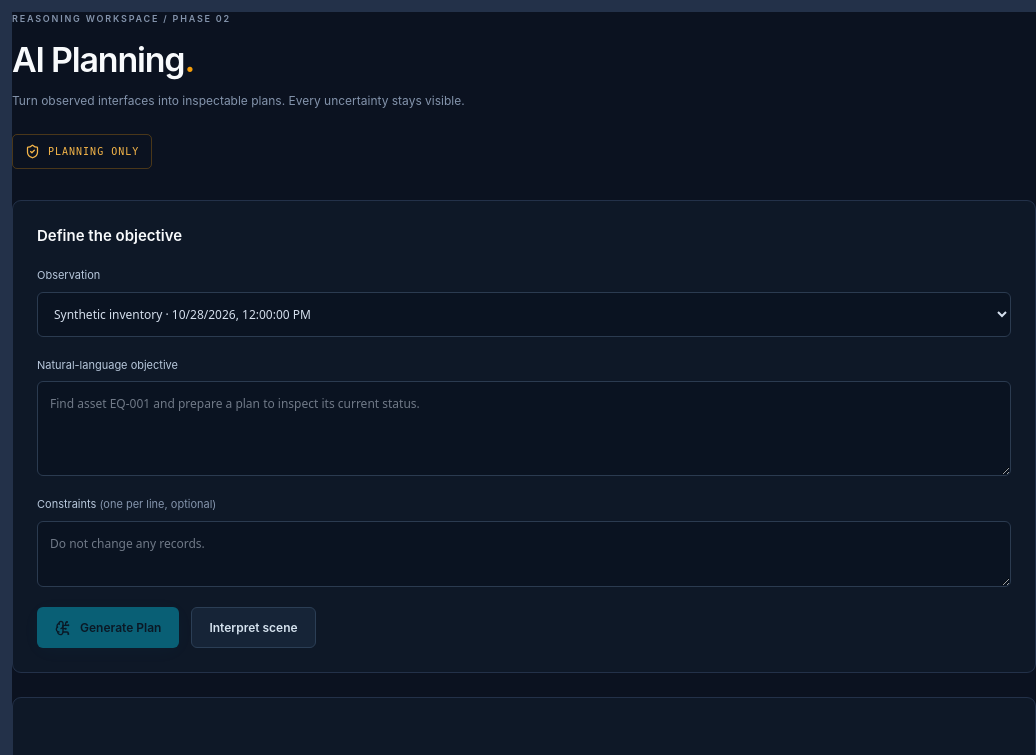
it: shows loading and prevents duplicate generation
Replace the text in the text box labelled "Natural-language objective" with "Find EQ-001": (524, 429) [37,381,1011,476]
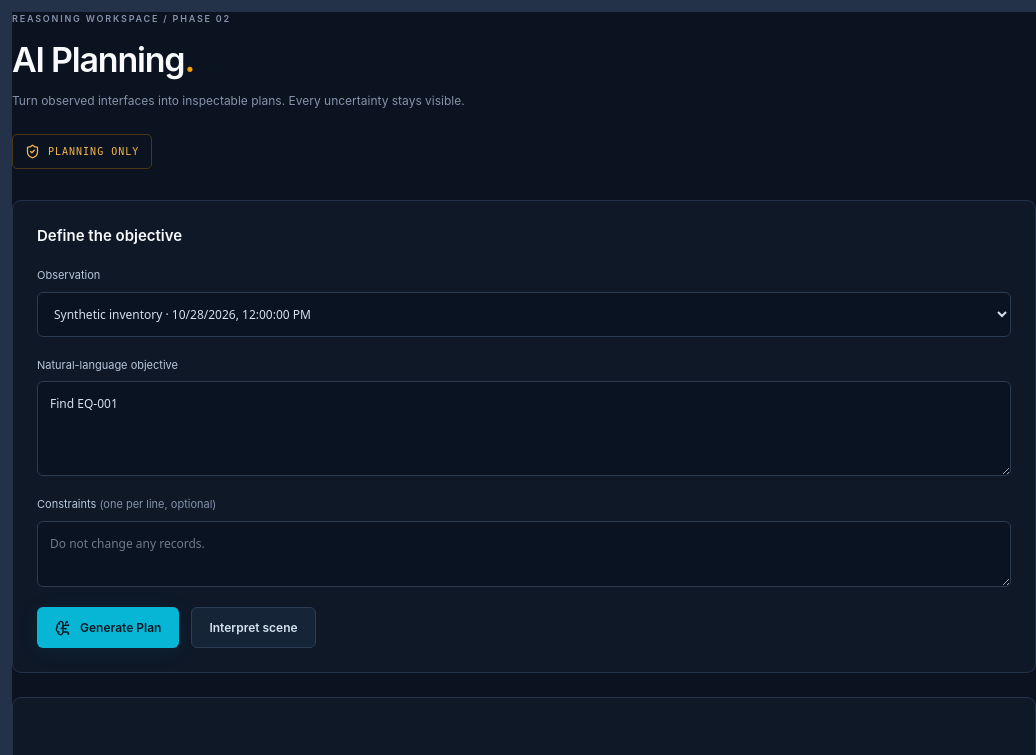
Click the button "Generate Plan": (108, 628) [37,608,179,648]
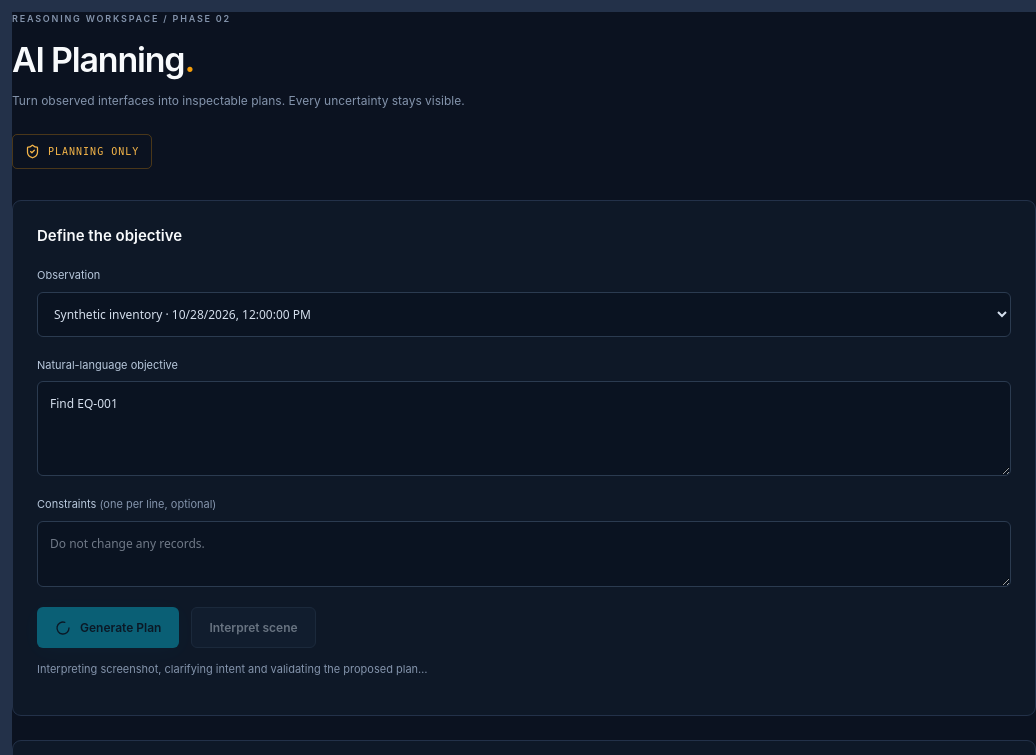
Now the message shows "Interpreting screenshot", box [37,662,428,676]
Now the button "Generate Plan" is disabled, box [37,608,179,648]
